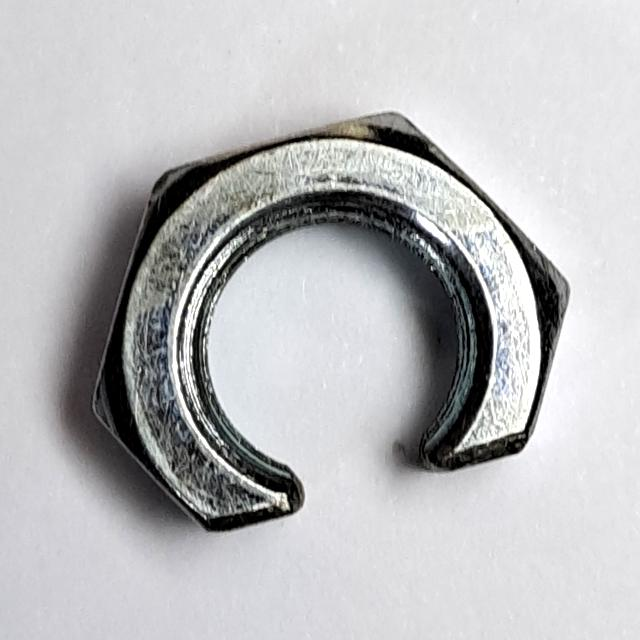Fracture: (83, 102, 578, 550)
